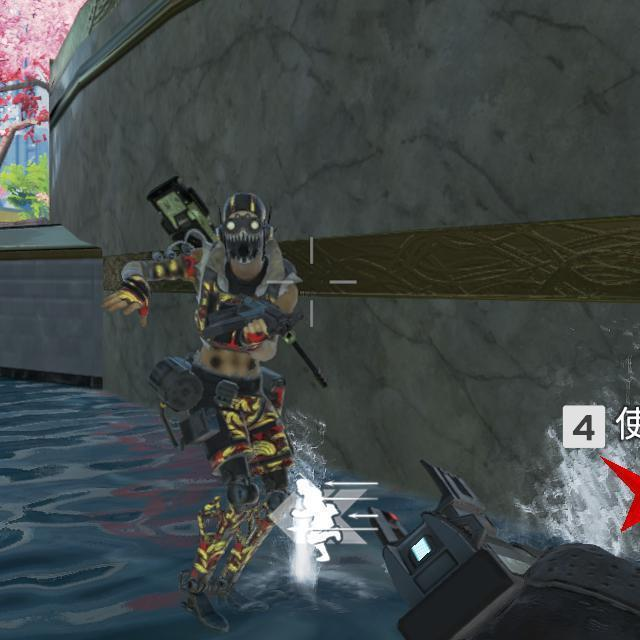avatar: (108, 175, 300, 632)
